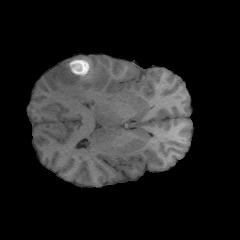glioma: (47, 57, 109, 100)
